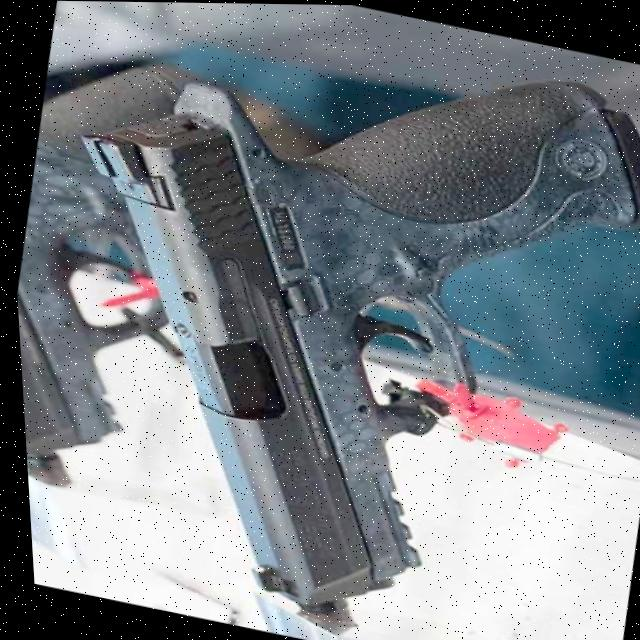pistol: (0, 0, 640, 640), (2, 42, 207, 499)
